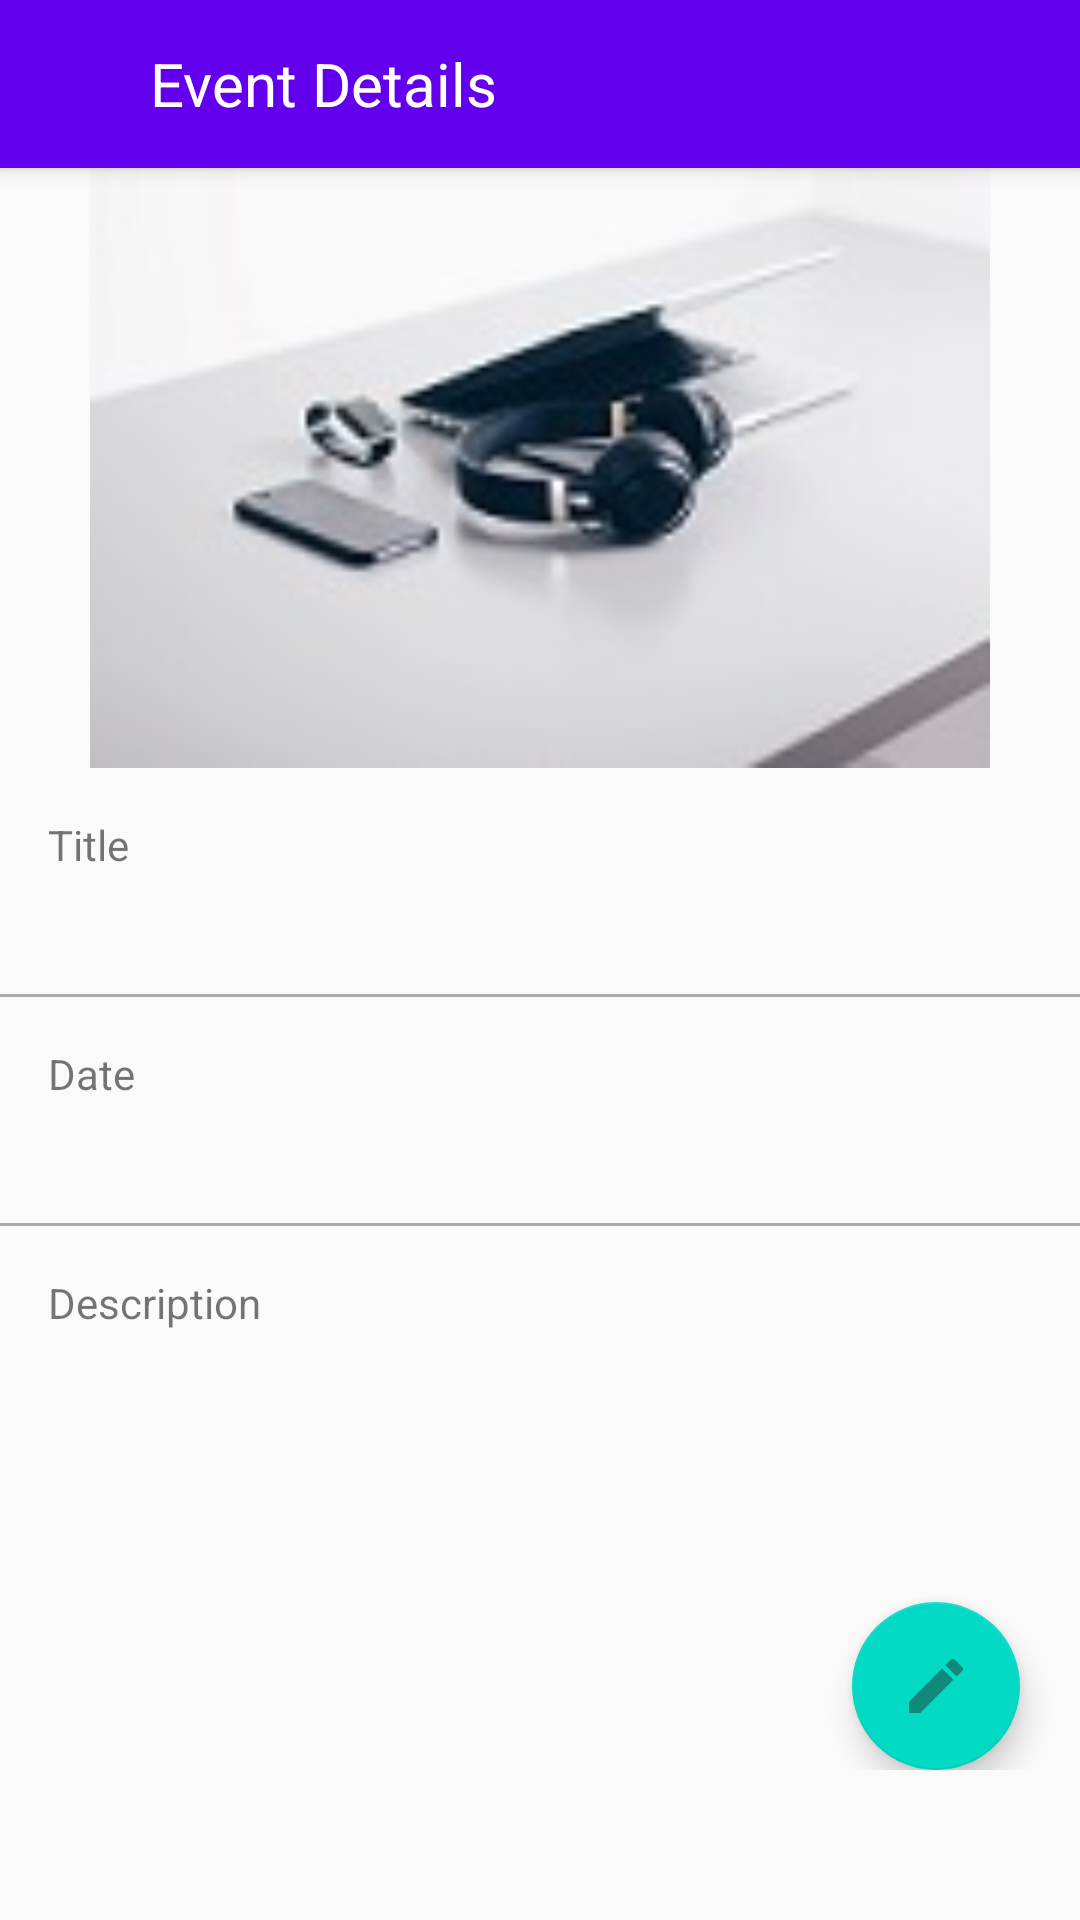

Named icons in this screenshot (1080×1920) and their centers, [x,y]:
edit: [936,1686]
